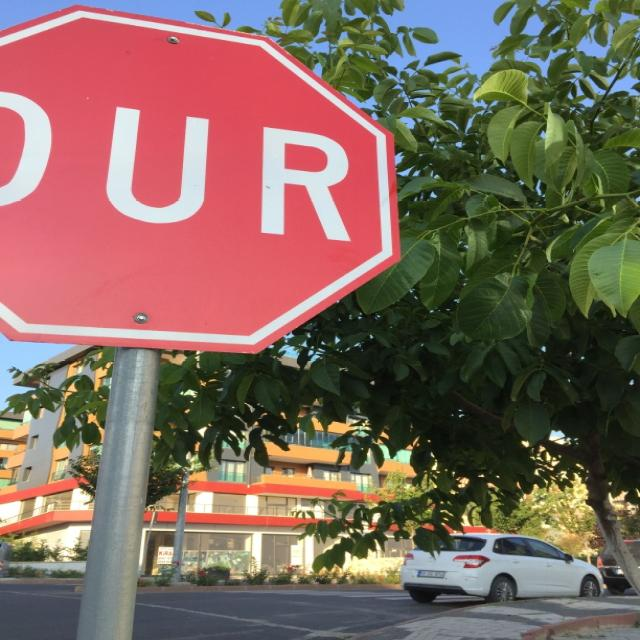dur: (2, 1, 402, 355)
